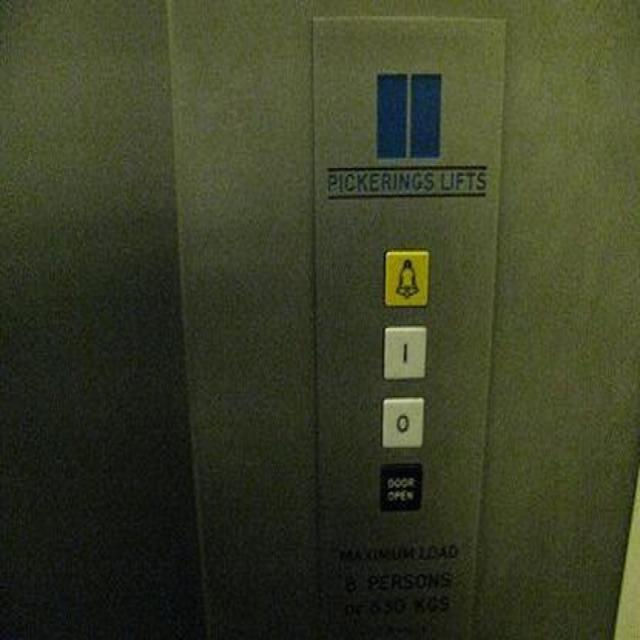0: (378, 392, 424, 451)
1: (380, 320, 428, 381)
alarm: (382, 244, 431, 307)
text_door open: (375, 455, 424, 513)
